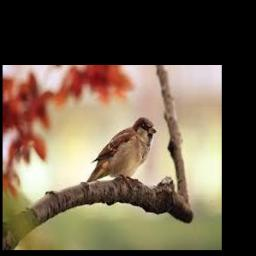Sparrow: (86, 117, 157, 183)
